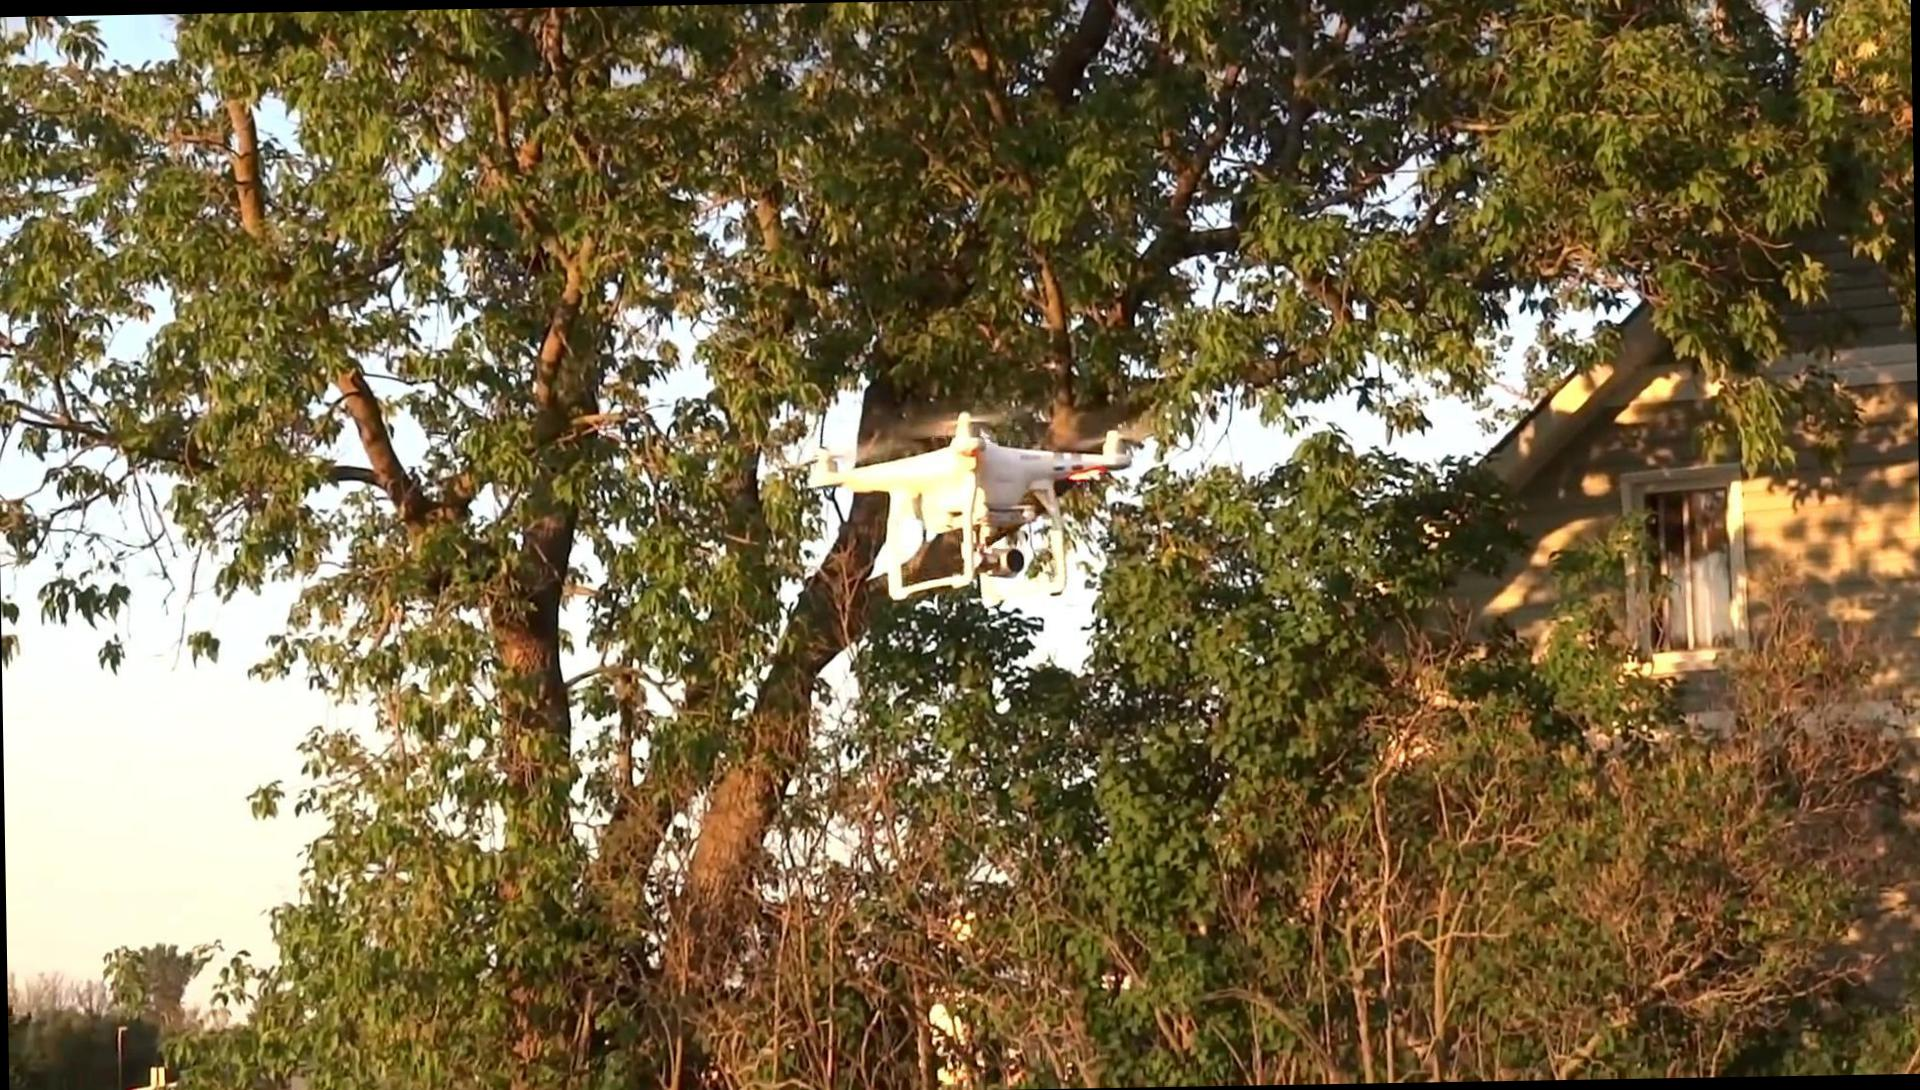drone: (789, 403, 1150, 606)
